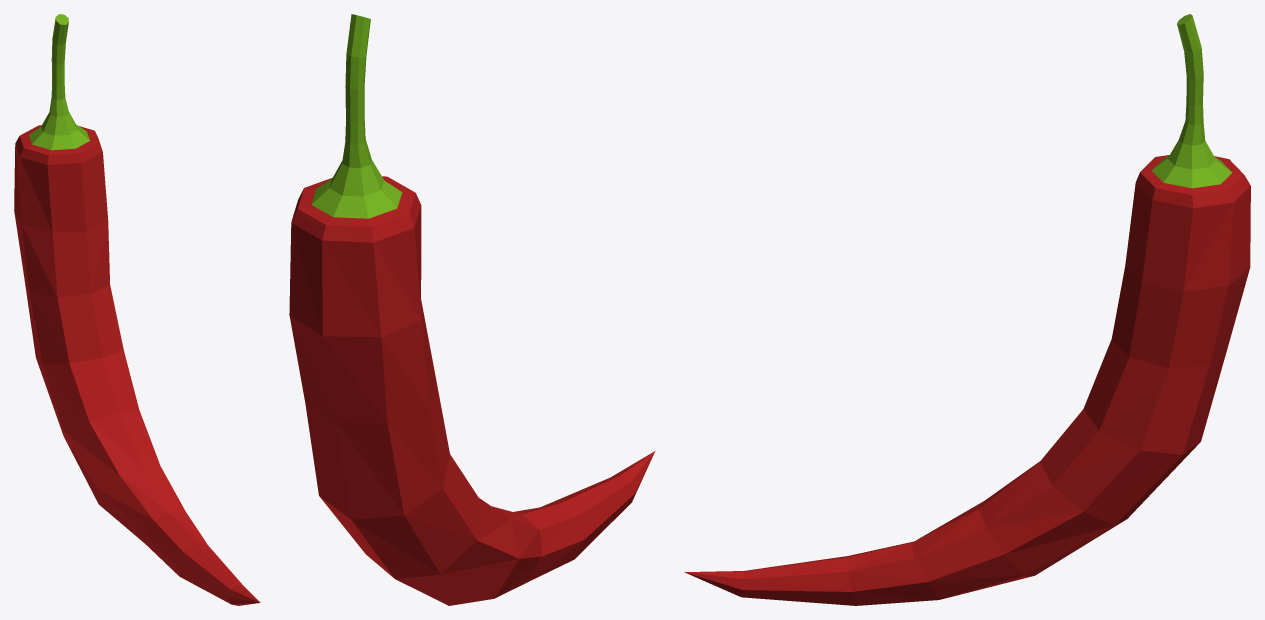
The model's file is 2942dcdc-98e7-4afd-a16a-ec6a04de8947.glb.
The picture shows the model from 3 angles, left to right: view 1: azimuth 30°, elevation 25°; view 2: azimuth 150°, elevation 25°; view 3: azimuth 270°, elevation 25°; orthographic projection. The views are drawn at different scales.
Parts seen in each view (by area): view 1: Node; view 2: Node; view 3: Node.
Part boxes in pixels (bbox=[...]): Node: bbox=[14, 14, 260, 605]; Node: bbox=[289, 14, 655, 605]; Node: bbox=[684, 14, 1250, 605].
Bounding box in the file's own units: 0.381 × 2.08 × 1.81.
